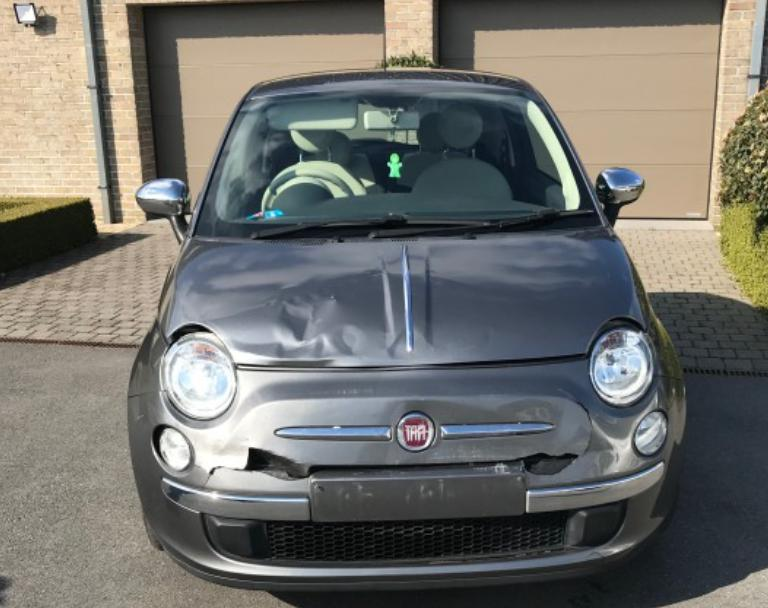Broken part: (128, 351, 687, 587), (585, 314, 649, 356), (164, 321, 234, 359)
Dent: (234, 283, 444, 371), (355, 394, 590, 467), (177, 244, 382, 320), (579, 423, 626, 476)
Missing part: (313, 476, 523, 519)
Scratch: (128, 364, 155, 422), (137, 415, 144, 419)
